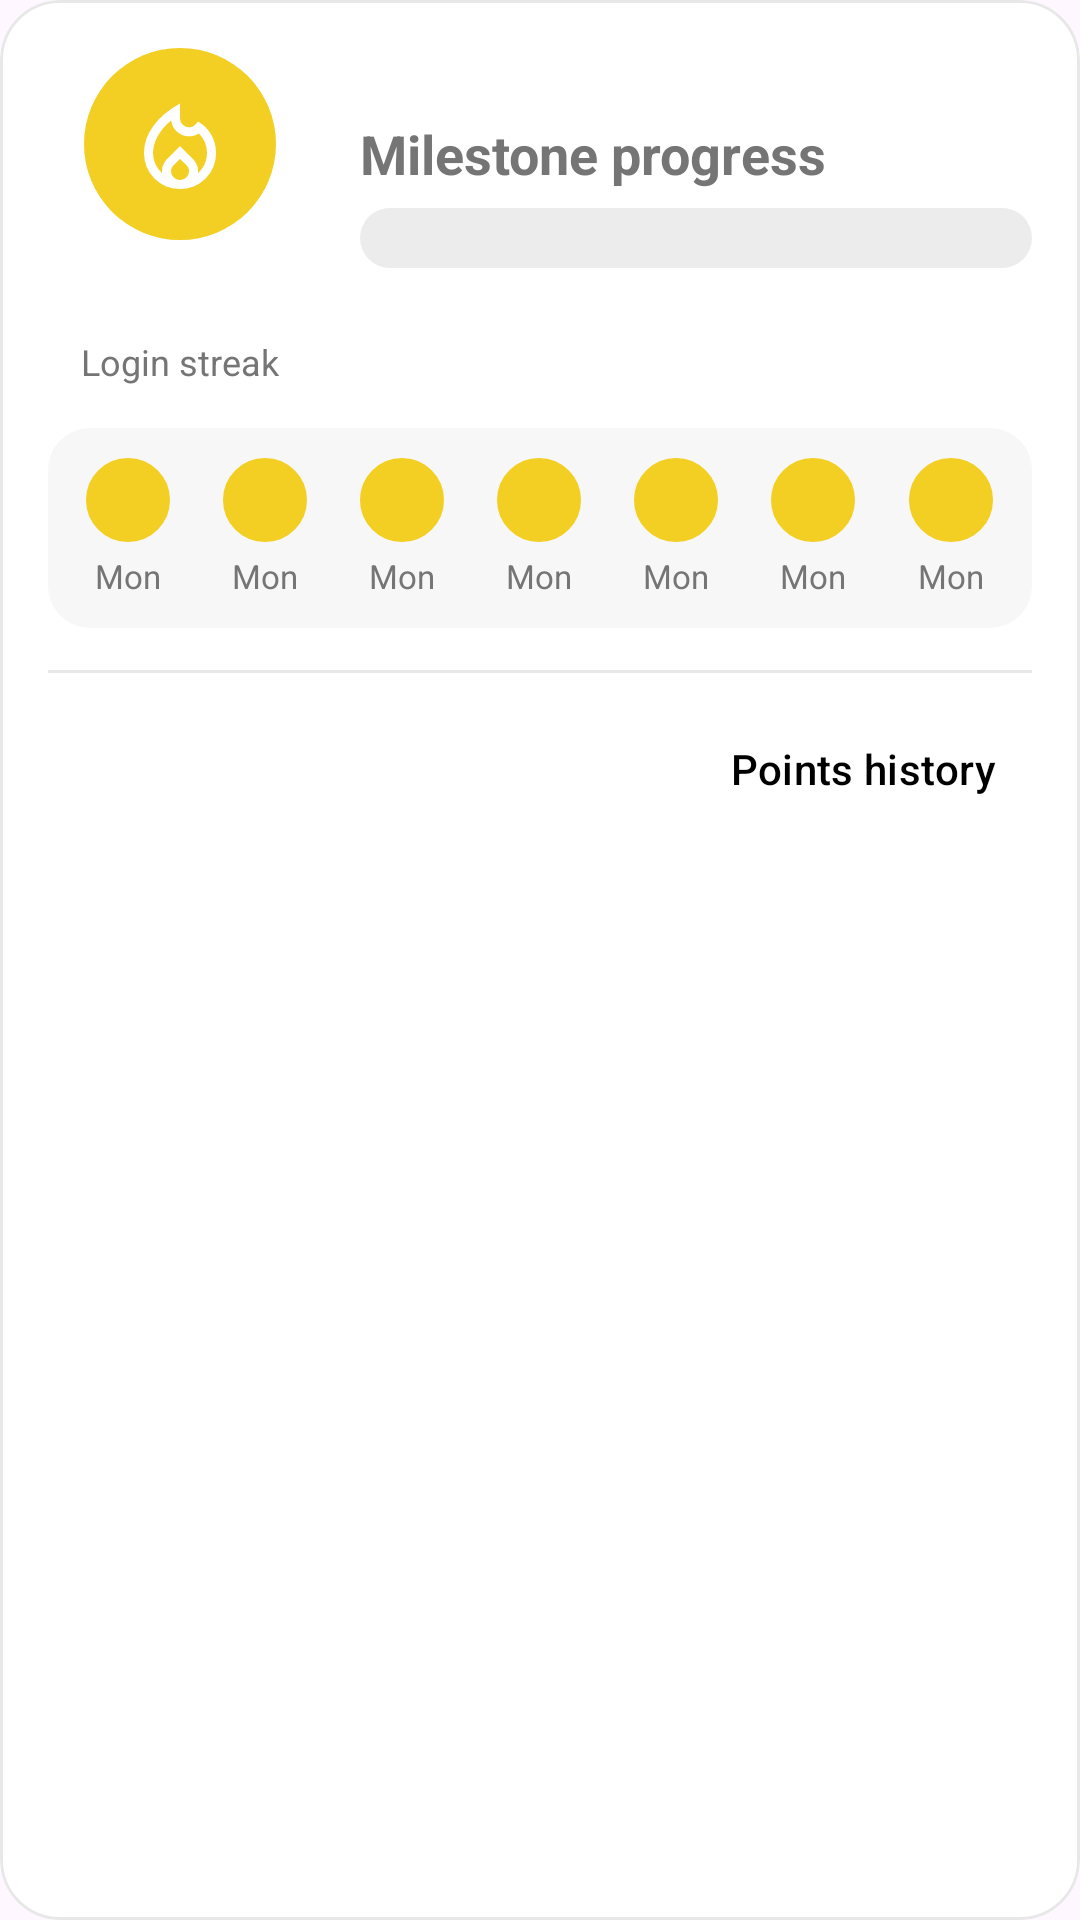

Named icons in this screenshot (1080*1920) and their centers, [x,y]:
fire: [180,146]
